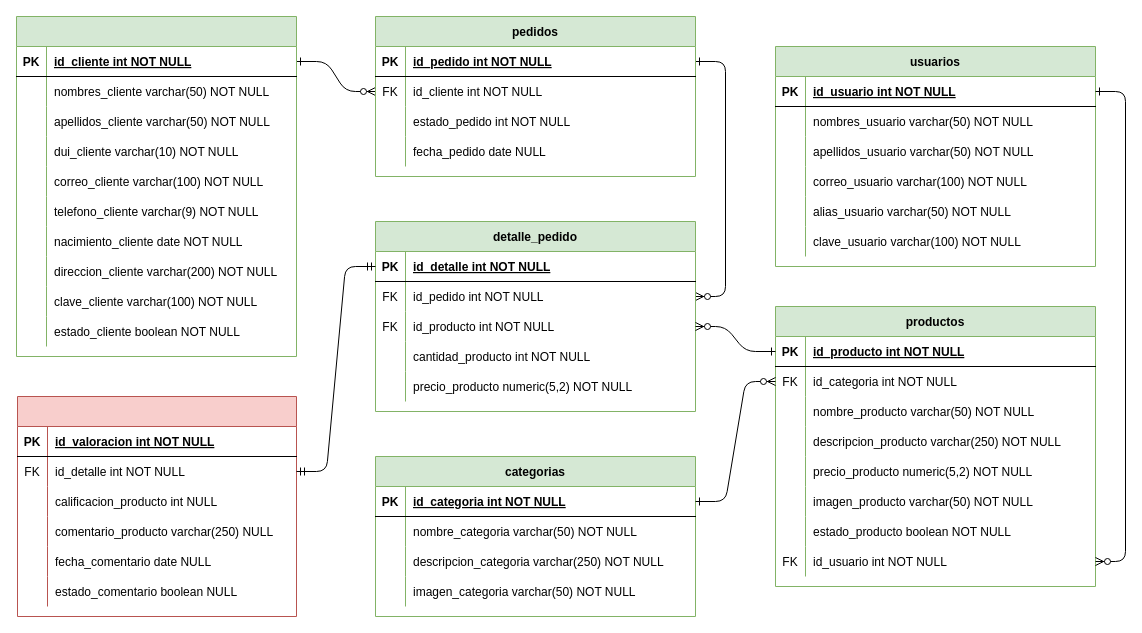
This 1142x633 diagram has some shape labels left out. Each missing label, with the box of its shape:
clientes: (16, 16, 296, 356)
valoraciones: (16, 396, 296, 616)
